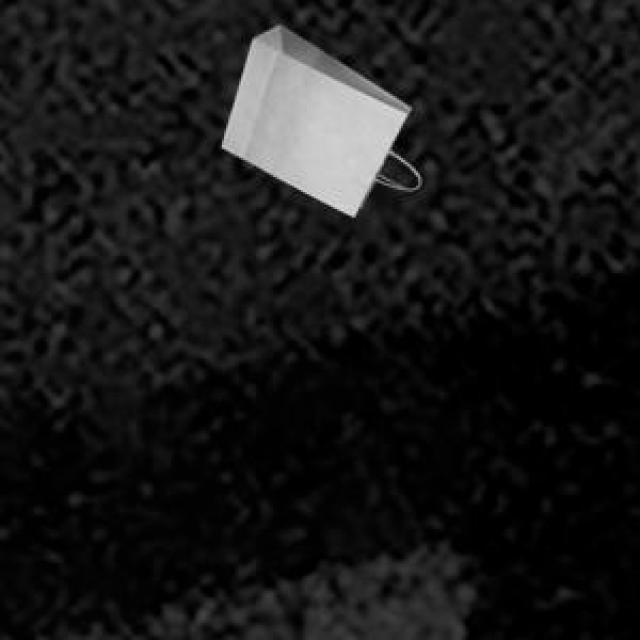paper: (218, 21, 405, 213)
